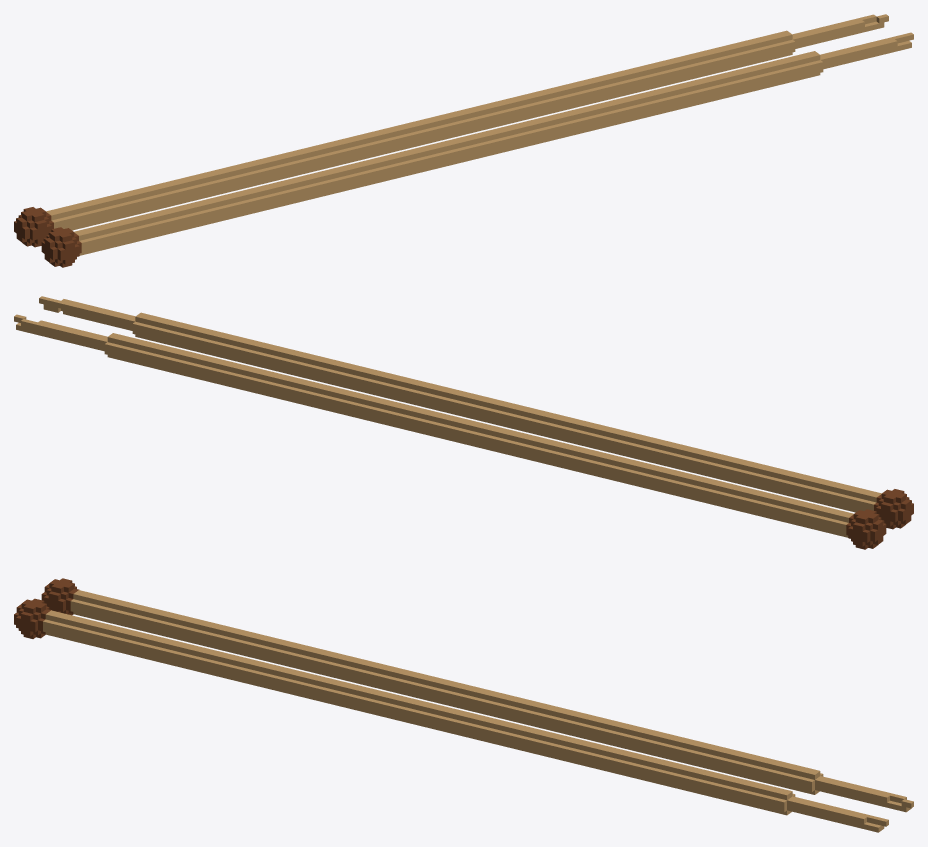
File: knitting_needles.glb
3 renders of one model, top to bottom at view 1: azimuth 30°, elevation 25°; view 2: azimuth 150°, elevation 25°; view 3: azimuth 330°, elevation 25°, orthographic.
Visible parts, largest first — view 1: knitting_needles:compound; view 2: knitting_needles:compound; view 3: knitting_needles:compound.
Boxes of the visible parts, <box> form: knitting_needles:compound: <box>14,14,913,267</box>; knitting_needles:compound: <box>14,296,913,549</box>; knitting_needles:compound: <box>14,578,913,832</box>.
Bounding box in the file's own units: 0.36 × 0.012 × 0.032.
